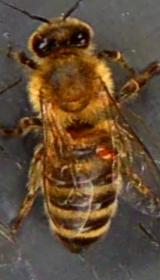varroa_mite: (90, 138, 120, 163)
